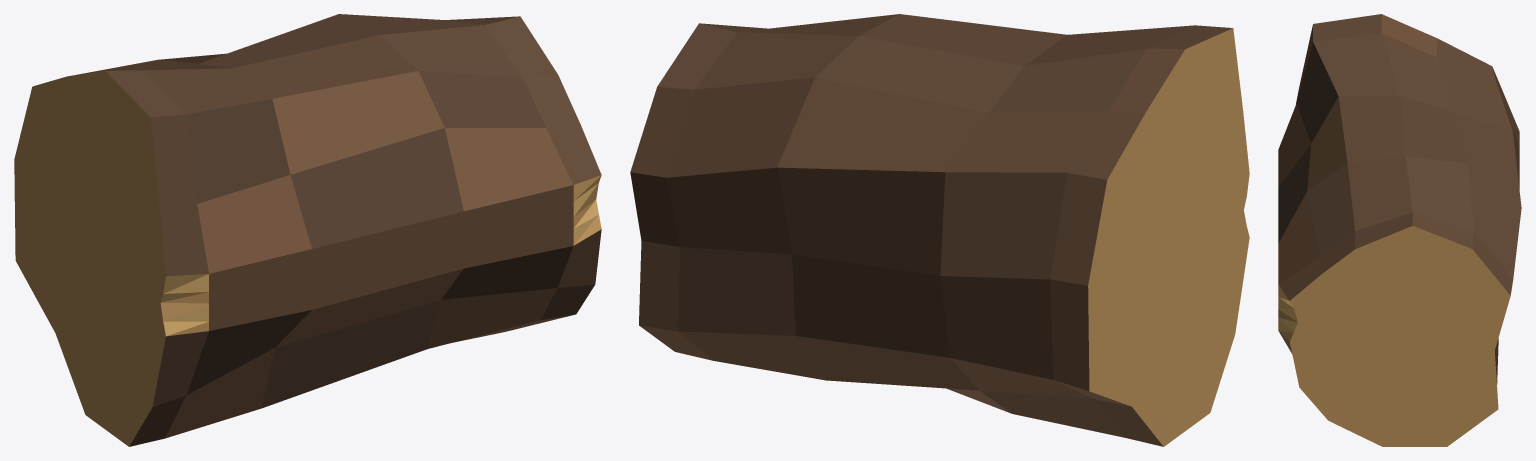
The model's file is rootfall-center.glb.
3 renders of one model, left to right at view 1: azimuth 30°, elevation 25°; view 2: azimuth 150°, elevation 25°; view 3: azimuth 270°, elevation 25°, orthographic. The views are drawn at different scales.
Visible parts, largest first — view 1: rootfall-center; view 2: rootfall-center; view 3: rootfall-center.
Boxes of the visible parts, x1,y1,x2,y2 form: rootfall-center: (14, 14, 601, 446); rootfall-center: (630, 14, 1249, 446); rootfall-center: (1278, 14, 1521, 446).
Size of the model in its own units: 3.3 by 2.6 by 2.11.
Materials: 1 (1 with a texture image).
